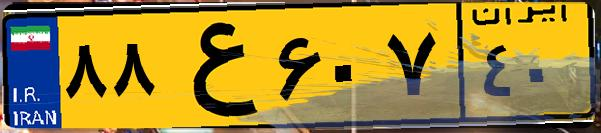0: (330, 28, 385, 110), (525, 38, 570, 115)
4: (475, 38, 525, 113)
6: (270, 28, 330, 110)
7: (385, 28, 445, 110)
8: (57, 26, 110, 100), (110, 28, 158, 98)
ع: (158, 12, 270, 120)
